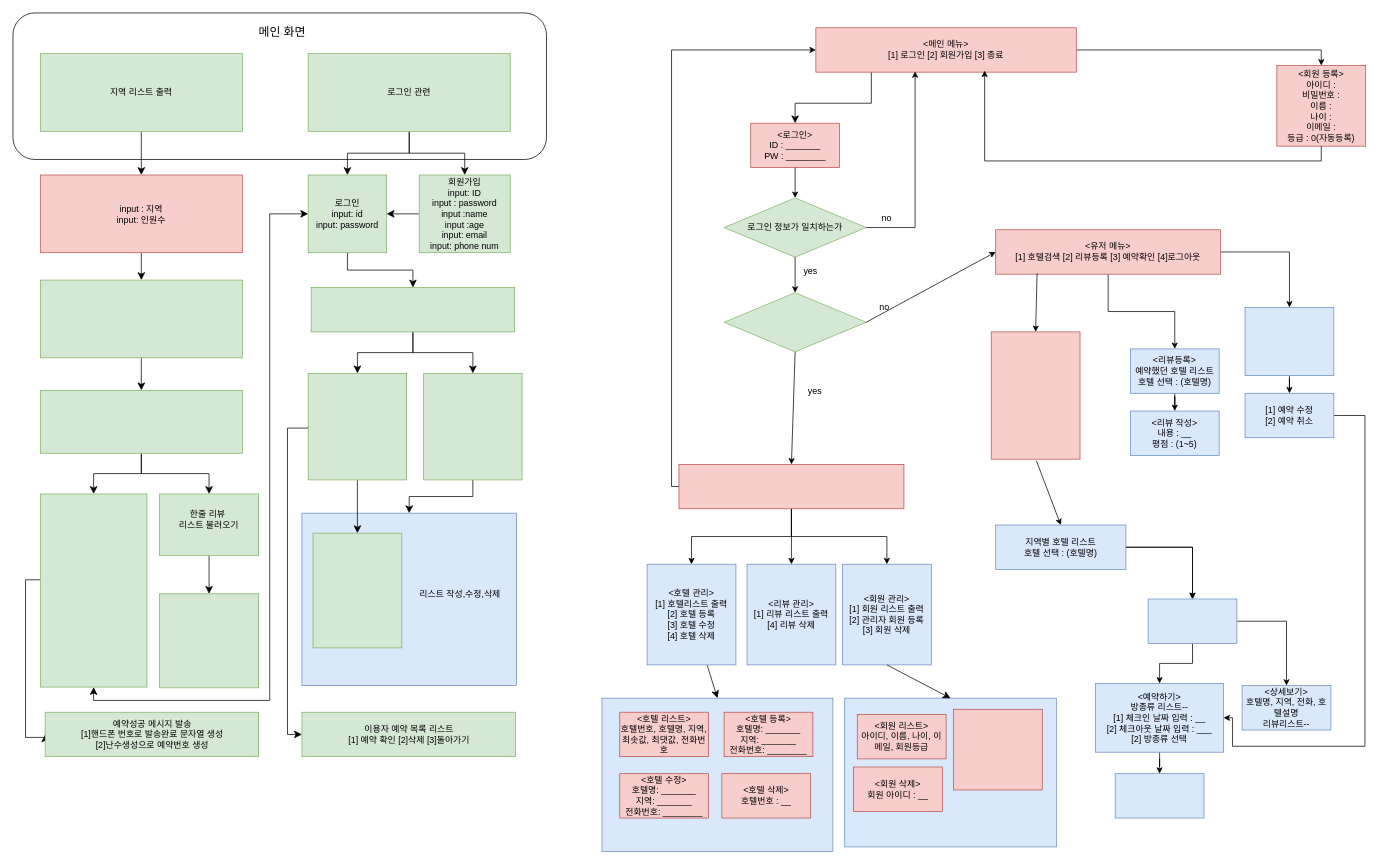
The diagram is 1384 pixels wide and 864 high, and some of its shapes have lost their labels. The centre of each missing label's shape, as x and y in pixels:
<관리자 메뉴> [1] 호텔관리 [2] 리뷰관리 [3] 회원관리 [4]로그아웃: point (791, 486)
<관리자회원 등록> 아이디 : 비밀번호 : 이름 : 나이 : 이메일 : 등급 : 1(자동등록): point (997, 749)
<예약 확인> 예약했던 리스트 호텔 선택 : 예약번호: point (1289, 341)
[1] 예약하기 [2] 상세보기: point (1192, 620)
관리자 로그인 메인 [1] 검색 [2] 리스트관리 [3]로그아웃: point (472, 426)
관리자계정인가: point (794, 322)
로그인 메인 [1] 검색 [2] 리뷰 작성 [3]예약 목록확인 [4]로그아웃 [5] 회원탈퇴: point (357, 426)
로그인 완료 [1]이용자 [2]관리자: point (412, 309)
리뷰 작성, 수정, 삭제 별점등록 작성자, 관리자 확인: point (357, 590)
리스트 출력 가격순, 별점순 정렬: point (141, 318)
방호실 리스트--- 방호실 선택 : __: point (1159, 795)
상세 페이지 [1] 예약 [2] 리뷰보기 [3]돌아가기: point (141, 421)
예약 하기 날짜 선택: point (93, 590)
지역확인 [1] 서울 [2] 부산 [3] 제주 [4] 인천 [5] 여수 [6] 수원 [7] 대전 [8] 광주 [9] 대구 [10] 속초: point (1035, 395)
추천/비추천: point (209, 640)
